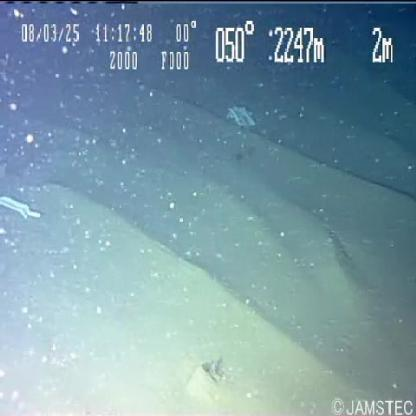Rác: (0, 196, 44, 226)
